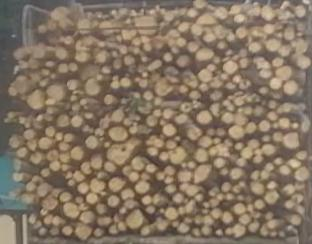large: (107, 140, 140, 166)
medium: (134, 16, 156, 35), (196, 12, 217, 28), (194, 165, 211, 183), (126, 211, 144, 228), (209, 143, 230, 157), (28, 91, 43, 109), (283, 133, 299, 149), (170, 149, 187, 164), (293, 55, 311, 69), (155, 80, 173, 94), (109, 127, 127, 141), (292, 38, 307, 54), (183, 73, 199, 88), (77, 20, 93, 35), (196, 48, 214, 61), (90, 178, 105, 193), (48, 86, 63, 101), (265, 38, 281, 52), (229, 125, 245, 139), (196, 111, 212, 125), (87, 79, 100, 96), (51, 7, 68, 20), (181, 184, 201, 195), (276, 66, 291, 80), (223, 60, 238, 74), (295, 167, 309, 182), (264, 191, 279, 205), (74, 49, 90, 62), (63, 205, 79, 218), (41, 198, 57, 211), (262, 4, 274, 21), (277, 103, 297, 113), (283, 81, 297, 95), (198, 68, 212, 82), (121, 26, 135, 40), (135, 180, 149, 194), (75, 226, 90, 239), (37, 183, 52, 196), (212, 26, 228, 38), (186, 128, 202, 140), (278, 43, 291, 57), (232, 224, 245, 238), (70, 147, 83, 161), (251, 182, 264, 195), (112, 109, 125, 122), (131, 158, 144, 171), (9, 135, 22, 148), (230, 168, 244, 180), (176, 55, 190, 67), (95, 50, 107, 64), (110, 178, 124, 190), (100, 21, 112, 35), (162, 123, 177, 134), (79, 212, 94, 223), (254, 58, 270, 68), (197, 137, 213, 147), (147, 137, 163, 147), (269, 77, 281, 90), (214, 7, 227, 19), (238, 214, 251, 226), (90, 156, 102, 169), (267, 219, 281, 230), (194, 151, 208, 162), (261, 145, 276, 155), (241, 147, 253, 159), (235, 114, 247, 126), (233, 203, 245, 215), (178, 171, 190, 183), (56, 48, 68, 60), (248, 42, 261, 53), (209, 90, 222, 101), (153, 194, 164, 207), (32, 151, 43, 164), (162, 109, 176, 119), (121, 190, 135, 200), (245, 122, 256, 134), (210, 209, 222, 220), (202, 215, 214, 226), (221, 113, 233, 124), (86, 136, 98, 147), (47, 150, 59, 161), (40, 138, 52, 149), (58, 116, 70, 127), (283, 27, 293, 40), (213, 158, 226, 168), (58, 192, 71, 202), (301, 116, 309, 132), (287, 159, 301, 168), (259, 120, 270, 131), (248, 222, 259, 233), (222, 101, 233, 112), (166, 209, 177, 220), (188, 42, 199, 53), (104, 162, 115, 173), (282, 185, 294, 195), (209, 104, 219, 116), (172, 193, 184, 203), (181, 102, 193, 112), (148, 60, 160, 70), (98, 217, 110, 227), (52, 216, 64, 226), (81, 163, 91, 175), (82, 37, 94, 47), (231, 185, 244, 194), (145, 164, 158, 173), (272, 57, 283, 67), (295, 7, 306, 17), (267, 111, 278, 121), (253, 106, 264, 116), (254, 200, 265, 210), (223, 212, 233, 223), (208, 187, 219, 197), (240, 80, 251, 90), (99, 116, 109, 127), (108, 197, 119, 207), (86, 192, 96, 203), (27, 140, 37, 151), (16, 148, 27, 158), (279, 166, 291, 175), (259, 224, 268, 236), (177, 224, 189, 233), (50, 188, 62, 197), (59, 154, 71, 163), (188, 92, 203, 99), (201, 226, 211, 236), (78, 184, 88, 194), (49, 161, 59, 171), (67, 80, 77, 90), (279, 118, 290, 127), (157, 221, 168, 230), (164, 166, 175, 175), (13, 160, 22, 171), (174, 115, 186, 123), (24, 131, 36, 139), (264, 25, 274, 34), (242, 107, 252, 116), (165, 185, 175, 194), (156, 171, 166, 180), (143, 91, 153, 100), (124, 56, 134, 65), (121, 78, 130, 88), (138, 79, 148, 88), (72, 118, 82, 127), (158, 153, 169, 161), (165, 141, 176, 149), (146, 117, 157, 125), (60, 20, 71, 28), (222, 183, 231, 192), (268, 100, 277, 109), (142, 196, 151, 205), (97, 204, 106, 213), (64, 133, 73, 142), (234, 97, 244, 105), (50, 227, 60, 235), (58, 142, 68, 150), (68, 64, 78, 72), (12, 174, 23, 181), (194, 194, 203, 202), (109, 226, 118, 234), (63, 227, 72, 235), (43, 216, 52, 224), (54, 133, 63, 141), (46, 127, 54, 136), (58, 65, 67, 73), (48, 21, 57, 29), (26, 184, 35, 192), (145, 206, 155, 213), (193, 216, 201, 224), (130, 127, 138, 135), (94, 229, 102, 237), (28, 216, 36, 224), (210, 200, 219, 207), (126, 201, 135, 208), (118, 222, 125, 231), (32, 176, 42, 182), (114, 60, 121, 68), (42, 170, 50, 177), (39, 25, 46, 33), (140, 229, 149, 235), (163, 176, 172, 182), (225, 228, 232, 235), (119, 207, 126, 214), (154, 111, 161, 117)
small: (249, 3, 260, 17), (236, 26, 247, 39), (230, 4, 242, 15), (203, 31, 214, 43), (287, 217, 301, 226), (191, 24, 202, 35), (249, 139, 261, 149), (297, 21, 307, 32), (179, 22, 190, 32), (234, 13, 246, 22), (259, 69, 271, 78), (295, 151, 307, 160), (284, 201, 297, 209), (291, 194, 302, 203), (176, 38, 187, 47), (253, 155, 263, 164), (250, 171, 260, 180), (163, 52, 173, 61), (132, 37, 142, 46), (104, 96, 114, 105), (129, 172, 139, 181), (273, 133, 282, 142), (260, 171, 269, 180), (207, 63, 216, 72), (220, 72, 229, 81), (142, 43, 151, 52), (119, 46, 128, 55), (74, 173, 83, 182), (259, 87, 269, 95), (236, 159, 246, 167), (123, 167, 133, 175), (33, 220, 41, 230), (240, 59, 248, 68), (223, 139, 232, 147), (220, 167, 228, 176), (273, 158, 283, 165), (267, 182, 277, 189), (147, 148, 157, 155), (227, 33, 235, 41), (295, 183, 303, 191), (179, 85, 187, 93), (233, 75, 242, 82), (199, 84, 208, 91), (154, 97, 161, 106), (95, 129, 104, 136), (217, 42, 227, 48), (225, 194, 235, 200), (235, 143, 243, 150), (192, 229, 200, 236), (217, 129, 225, 136), (188, 162, 196, 169), (188, 10, 196, 17), (132, 48, 140, 55), (111, 81, 118, 89), (124, 119, 132, 126), (76, 196, 83, 204), (46, 99, 54, 106), (169, 39, 175, 48), (102, 67, 111, 73), (213, 56, 220, 63), (225, 49, 232, 56), (266, 164, 273, 171), (207, 129, 214, 136), (142, 173, 149, 180), (38, 229, 45, 236), (262, 135, 270, 141), (265, 213, 273, 219), (212, 138, 220, 144), (166, 12, 172, 20), (41, 69, 49, 75), (278, 231, 285, 237), (203, 203, 210, 209), (66, 174, 73, 180), (112, 51, 119, 57), (171, 47, 179, 52), (140, 57, 148, 62), (292, 123, 298, 129), (80, 99, 86, 105), (98, 42, 104, 48), (180, 163, 187, 168), (202, 210, 209, 215), (85, 114, 92, 119), (47, 62, 54, 67), (255, 149, 261, 154), (175, 136, 181, 141), (156, 44, 162, 49), (68, 181, 73, 187), (40, 81, 46, 86), (89, 127, 93, 134), (104, 142, 109, 147), (63, 166, 68, 171), (83, 127, 88, 132), (71, 96, 76, 101), (51, 74, 55, 79), (114, 77, 118, 81), (98, 76, 101, 80)
